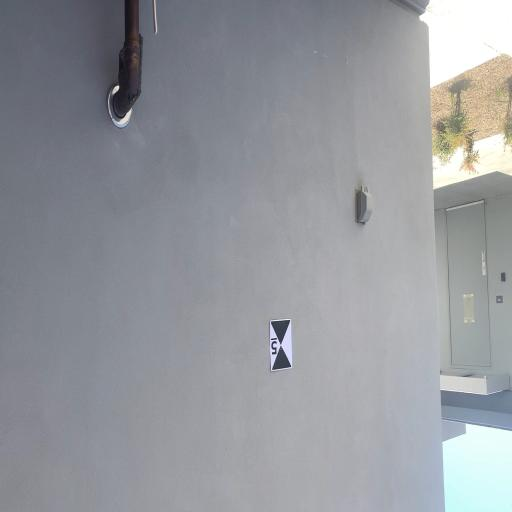target5: (269, 318, 292, 373)
